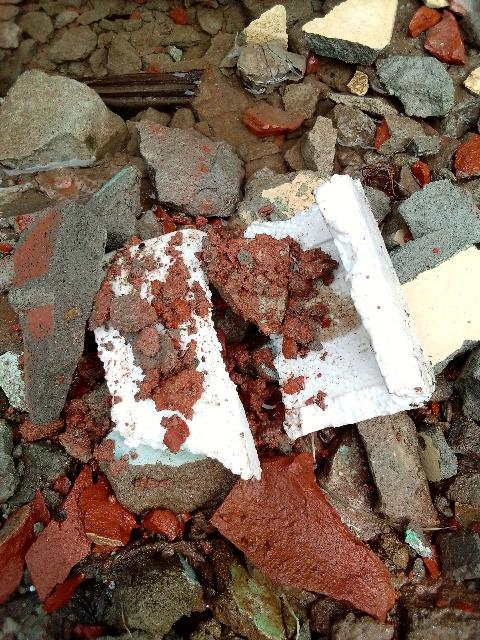cocksheet: (65, 147, 448, 489)
